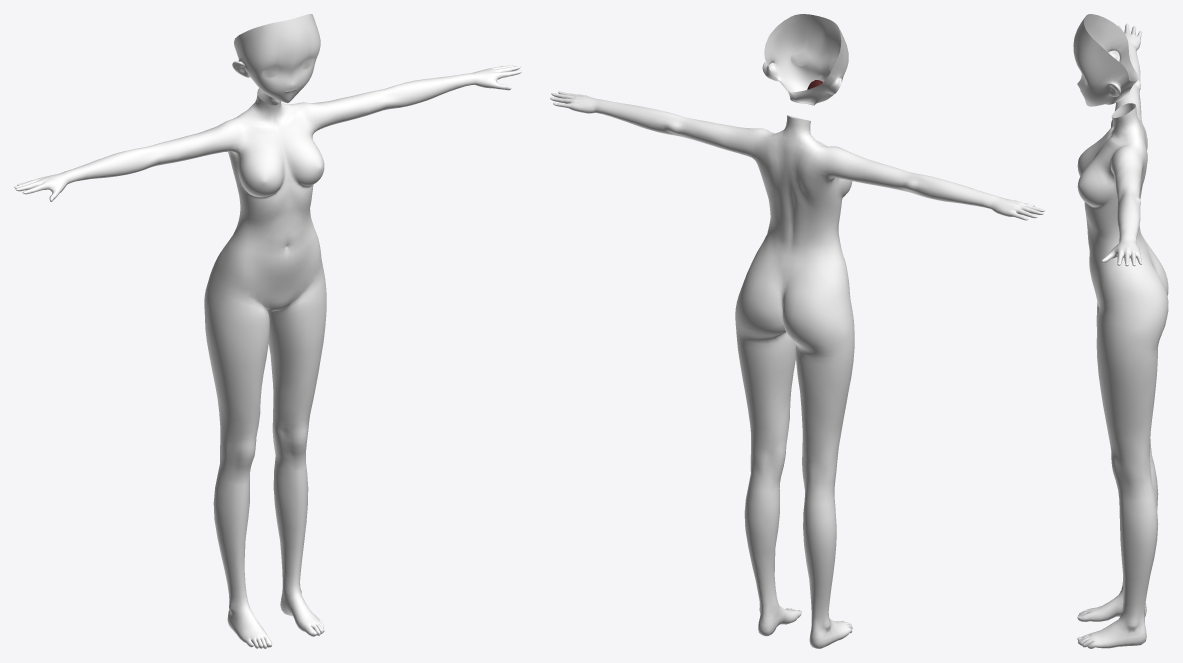
File: base_body.glb
3 views of the same model, side by side, from view 1: azimuth 30°, elevation 25°; view 2: azimuth 150°, elevation 25°; view 3: azimuth 270°, elevation 25° (orthographic). The views are drawn at different scales.
Visible parts, largest first — view 1: cf_body, cf_face; view 2: cf_body, cf_face; view 3: cf_body, cf_face.
Boxes of the visible parts, x1,y1,x2,y2 form: cf_body: (14, 65, 521, 648); cf_face: (232, 14, 320, 103); cf_body: (550, 91, 1044, 648); cf_face: (762, 14, 848, 105); cf_body: (1077, 23, 1168, 648); cf_face: (1073, 14, 1139, 106).
Bounding box in the file's own units: 1.49 × 1.75 × 0.2472.
Materials: 2 (2 with a texture image).
